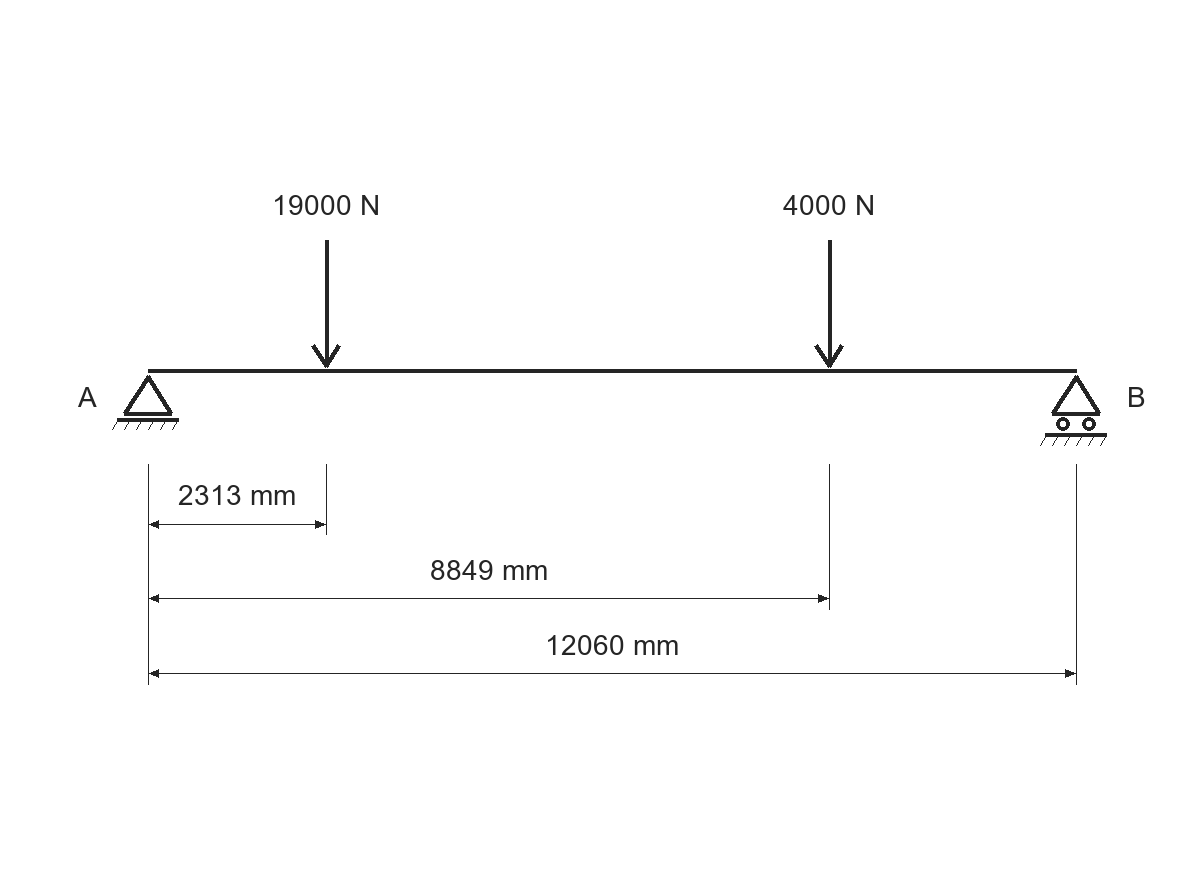pin_support: (112, 375, 179, 430)
point_load: (311, 240, 341, 368), (814, 240, 844, 368)
roller_support: (1040, 375, 1107, 446)
